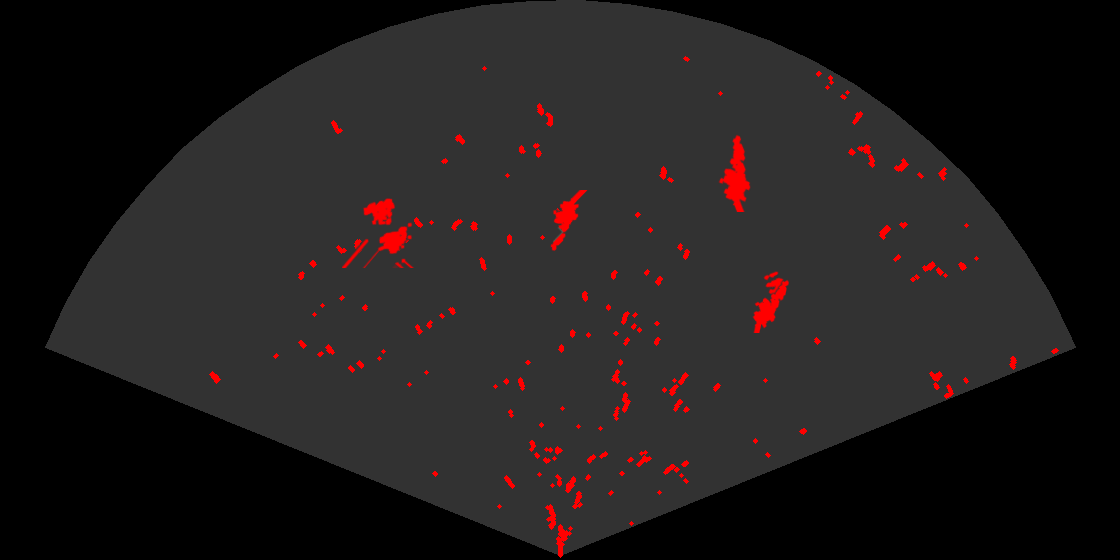ball: (762, 270, 788, 297)
cage: (342, 197, 416, 268)
frogman: (717, 133, 752, 212), (549, 190, 589, 253), (751, 278, 791, 333)
